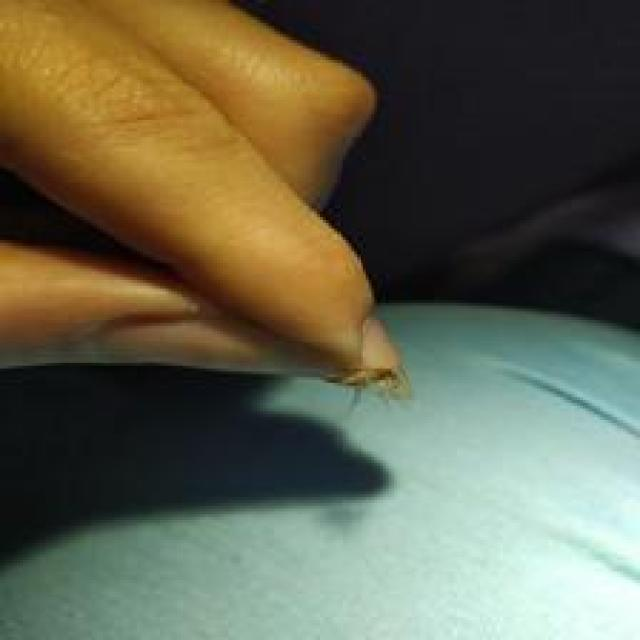Culex: (0, 0, 411, 403)
